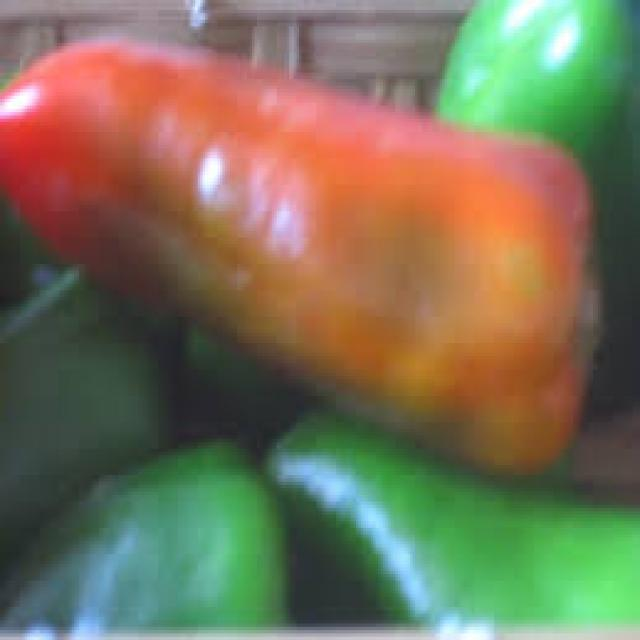organic waste: (0, 0, 638, 637), (0, 46, 605, 461), (272, 406, 637, 636), (429, 0, 637, 379), (0, 458, 292, 636), (0, 257, 178, 452)
